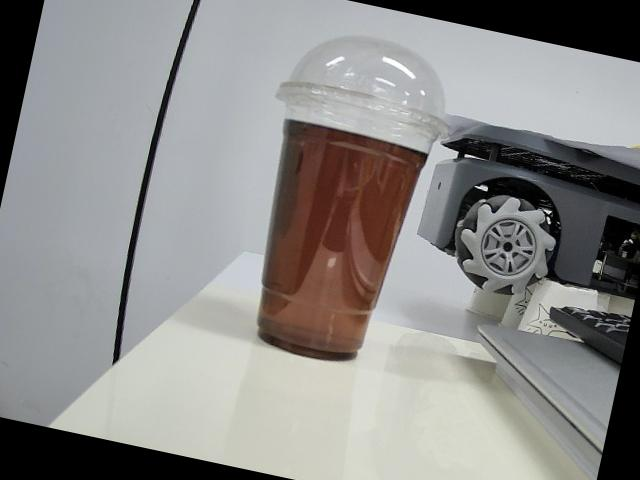Plastik: (258, 37, 445, 359)
